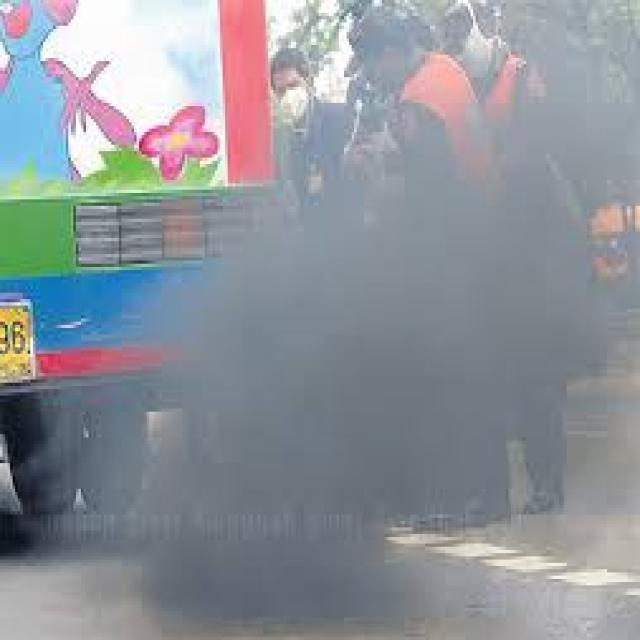Smoke: (53, 0, 640, 639)
